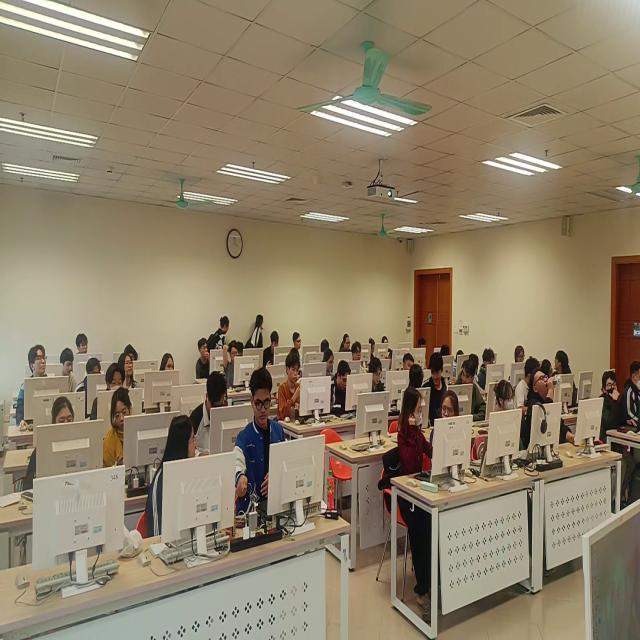raise_head: (526, 372, 581, 453), (16, 345, 59, 435), (597, 372, 633, 456), (490, 379, 526, 462), (94, 367, 127, 424), (225, 344, 258, 395), (158, 349, 180, 402), (121, 355, 139, 393), (352, 343, 367, 377), (513, 347, 526, 377), (292, 332, 307, 357), (79, 333, 91, 359)
stand: (246, 314, 266, 357), (208, 316, 230, 353)
using_computer: (235, 374, 290, 525), (27, 400, 85, 502), (104, 391, 153, 481), (191, 372, 237, 458), (327, 361, 353, 421), (77, 361, 105, 413), (371, 360, 396, 410), (624, 361, 640, 434), (479, 350, 505, 390), (196, 339, 219, 381), (60, 350, 79, 397), (263, 332, 280, 372), (322, 353, 344, 383), (382, 336, 402, 363), (340, 333, 354, 359)
using_phone: (278, 351, 310, 430)
